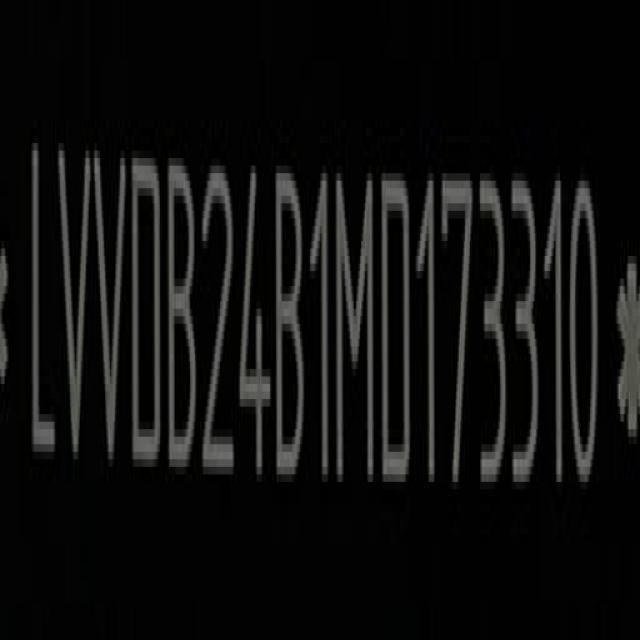0: (572, 182, 600, 489)
1: (308, 163, 333, 484), (548, 176, 568, 494), (418, 167, 436, 501)
2: (204, 164, 236, 483)
3: (512, 174, 540, 492)
4: (239, 160, 271, 484)
5: (479, 169, 508, 494)
7: (443, 164, 474, 498)
B: (166, 153, 199, 471), (277, 164, 307, 484)
D: (383, 164, 419, 488), (132, 147, 164, 469)
L: (30, 122, 56, 468)
M: (338, 168, 377, 485)
V: (54, 138, 90, 472), (94, 140, 130, 473)
